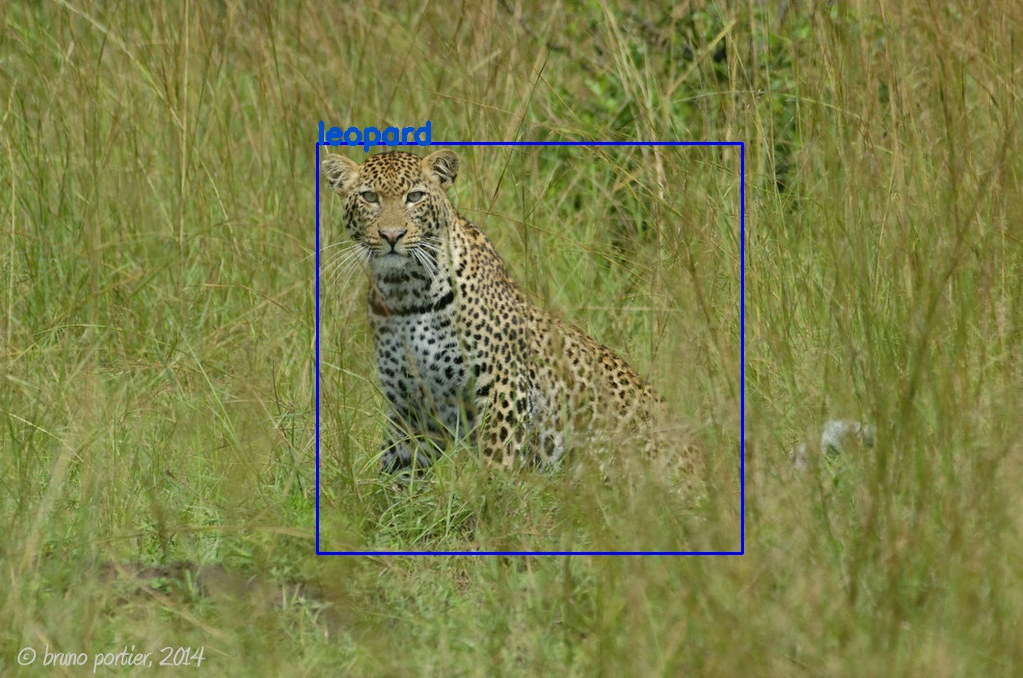leopard: (316, 142, 741, 552)
